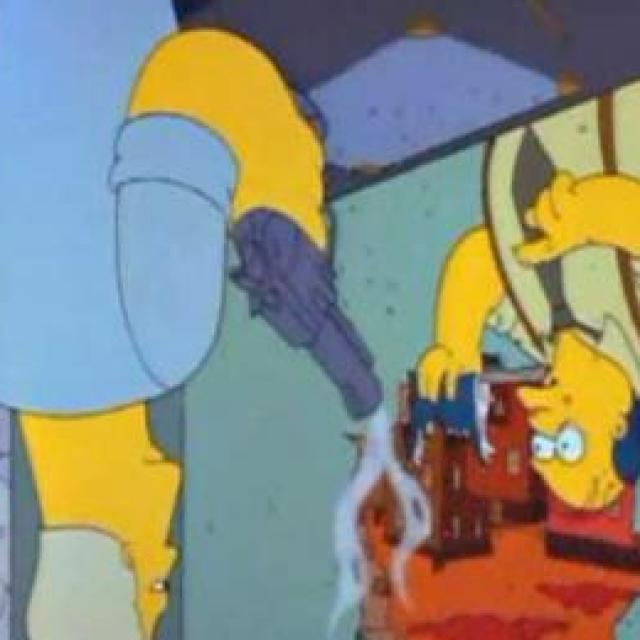pistol: (212, 78, 396, 416)
